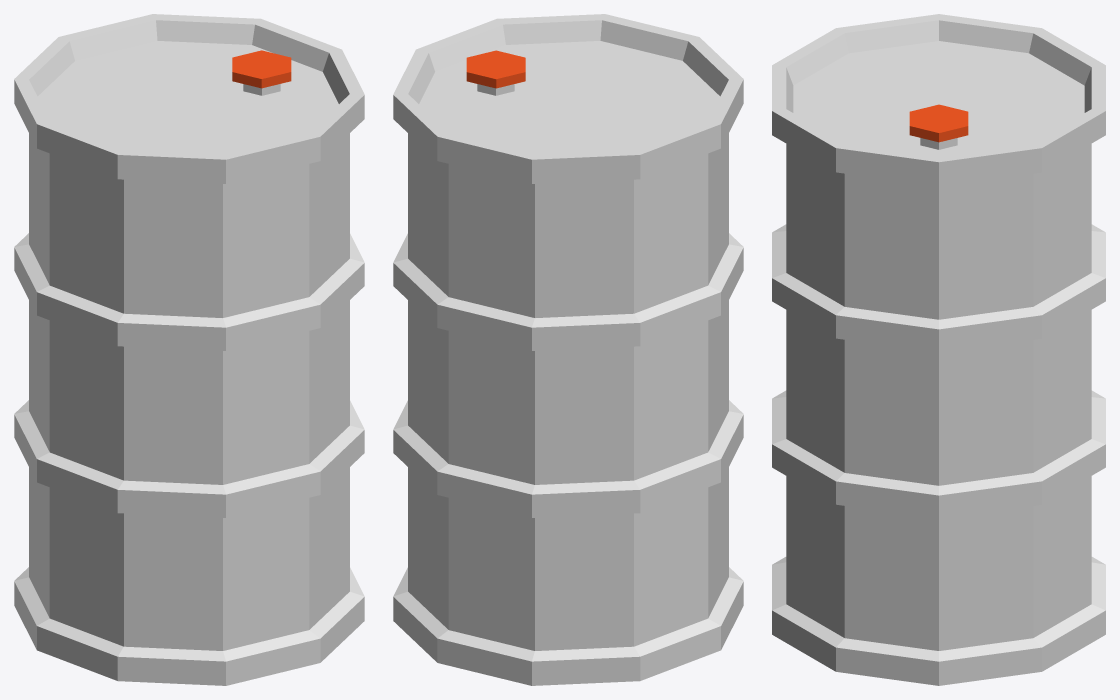
The model's file is oil_barrel_2.FBX.
3 renders of one model, left to right at view 1: azimuth 30°, elevation 25°; view 2: azimuth 150°, elevation 25°; view 3: azimuth 270°, elevation 25°, orthographic.
Parts seen in each view (by area): view 1: oil_barrel_2; view 2: oil_barrel_2; view 3: oil_barrel_2.
Boxes of the visible parts, box(x1,y1,x2,y2) form: oil_barrel_2: box(14, 14, 364, 685); oil_barrel_2: box(393, 14, 743, 685); oil_barrel_2: box(772, 14, 1105, 685).
Bounding box in the file's own units: 0.7365 × 1.22 × 0.7005.
Materials: 1 (1 with a texture image).
